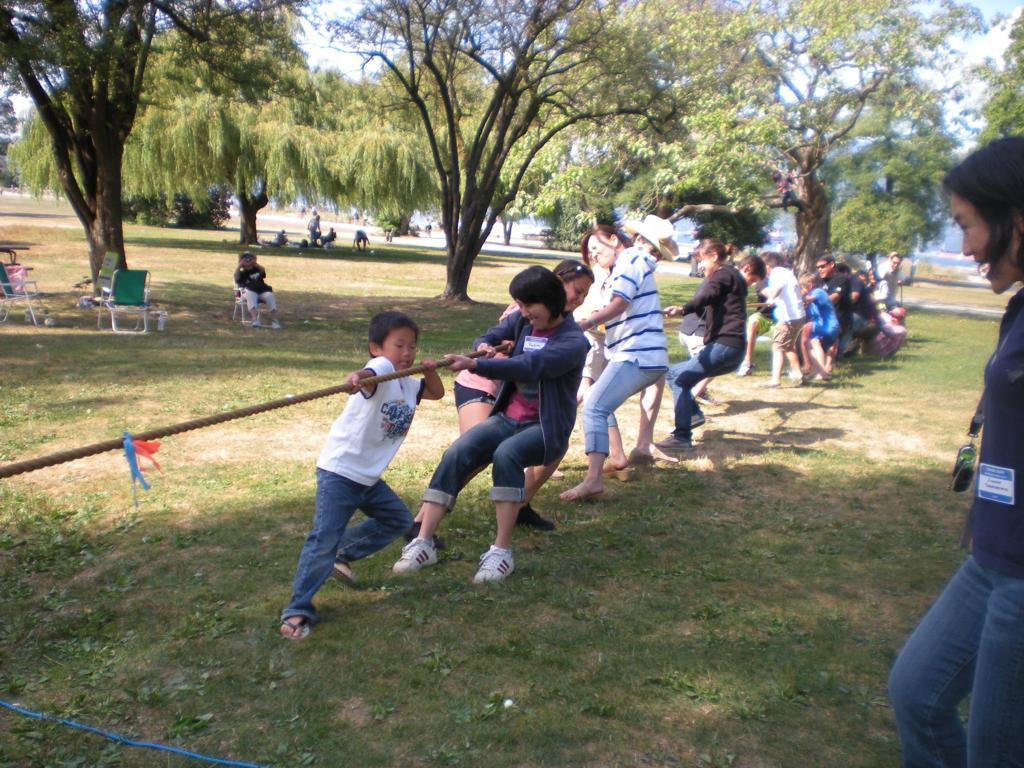face: (949, 190, 1017, 294), (385, 332, 417, 371), (515, 297, 551, 331), (563, 273, 590, 312), (588, 236, 612, 268), (639, 239, 661, 267), (698, 254, 715, 278), (743, 268, 757, 287), (816, 261, 830, 279), (891, 311, 902, 327), (869, 270, 879, 284), (892, 258, 902, 271), (243, 255, 254, 266), (860, 275, 868, 286)
